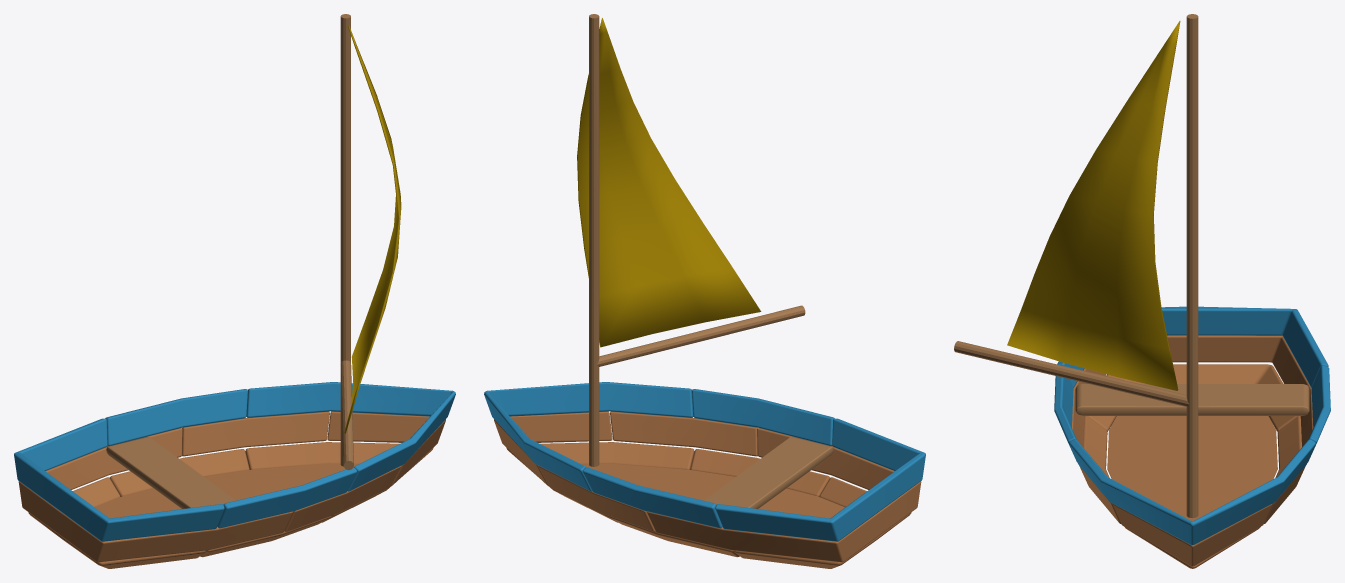
The model's file is Boat2.fbx.
3 renders of one model, left to right at view 1: azimuth 30°, elevation 25°; view 2: azimuth 150°, elevation 25°; view 3: azimuth 270°, elevation 25°, orthographic. The views are drawn at different scales.
Parts seen in each view (by area): view 1: Plane.043, Plane.038, Plane.039, Vert, Plane.037, Plane.040, Plane.041; view 2: Plane.041, Plane.043, Plane.038, Plane.039, Vert, Plane.040, Plane.037; view 3: Plane.041, Plane.043, Plane.040, Vert, Plane.038, Plane.037, Plane.039.
Boxes of the visible parts, x1,y1,x2,y2 form: Plane.043: [14, 382, 455, 541]; Plane.038: [18, 411, 445, 562]; Plane.039: [28, 442, 433, 568]; Vert: [340, 14, 353, 470]; Plane.037: [106, 437, 235, 508]; Plane.040: [95, 463, 357, 518]; Plane.041: [344, 26, 401, 433]; Plane.041: [577, 18, 761, 347]; Plane.043: [484, 382, 925, 541]; Plane.038: [494, 411, 921, 562]; Plane.039: [506, 442, 911, 568]; Vert: [589, 14, 805, 466]; Plane.040: [582, 463, 844, 518]; Plane.037: [704, 437, 833, 508]; Plane.041: [1007, 21, 1180, 390]; Plane.043: [1054, 306, 1330, 545]; Plane.040: [1107, 416, 1277, 520]; Vert: [954, 14, 1198, 518]; Plane.038: [1072, 335, 1313, 566]; Plane.037: [1075, 384, 1309, 415]; Plane.039: [1083, 364, 1301, 568].
Size of the model in its own units: 2227 by 2500 by 1642.
